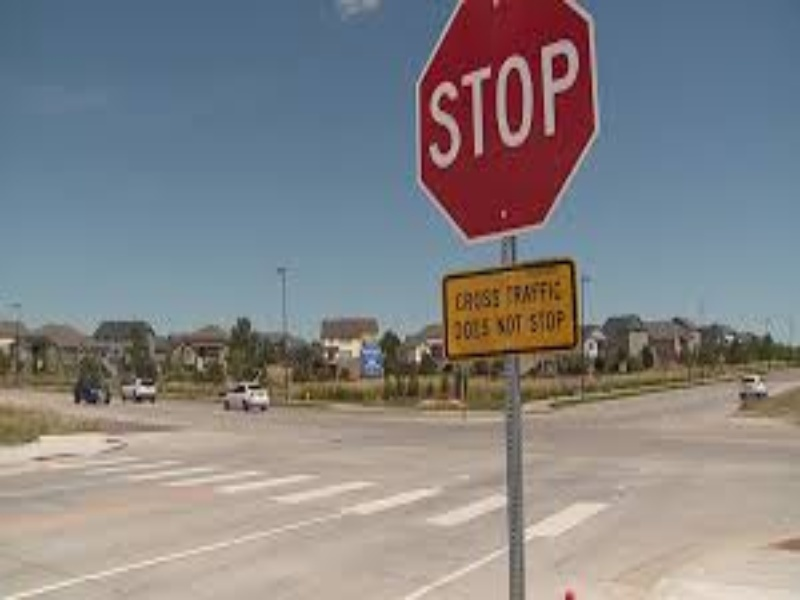Stop_Sign: (413, 1, 593, 244)
